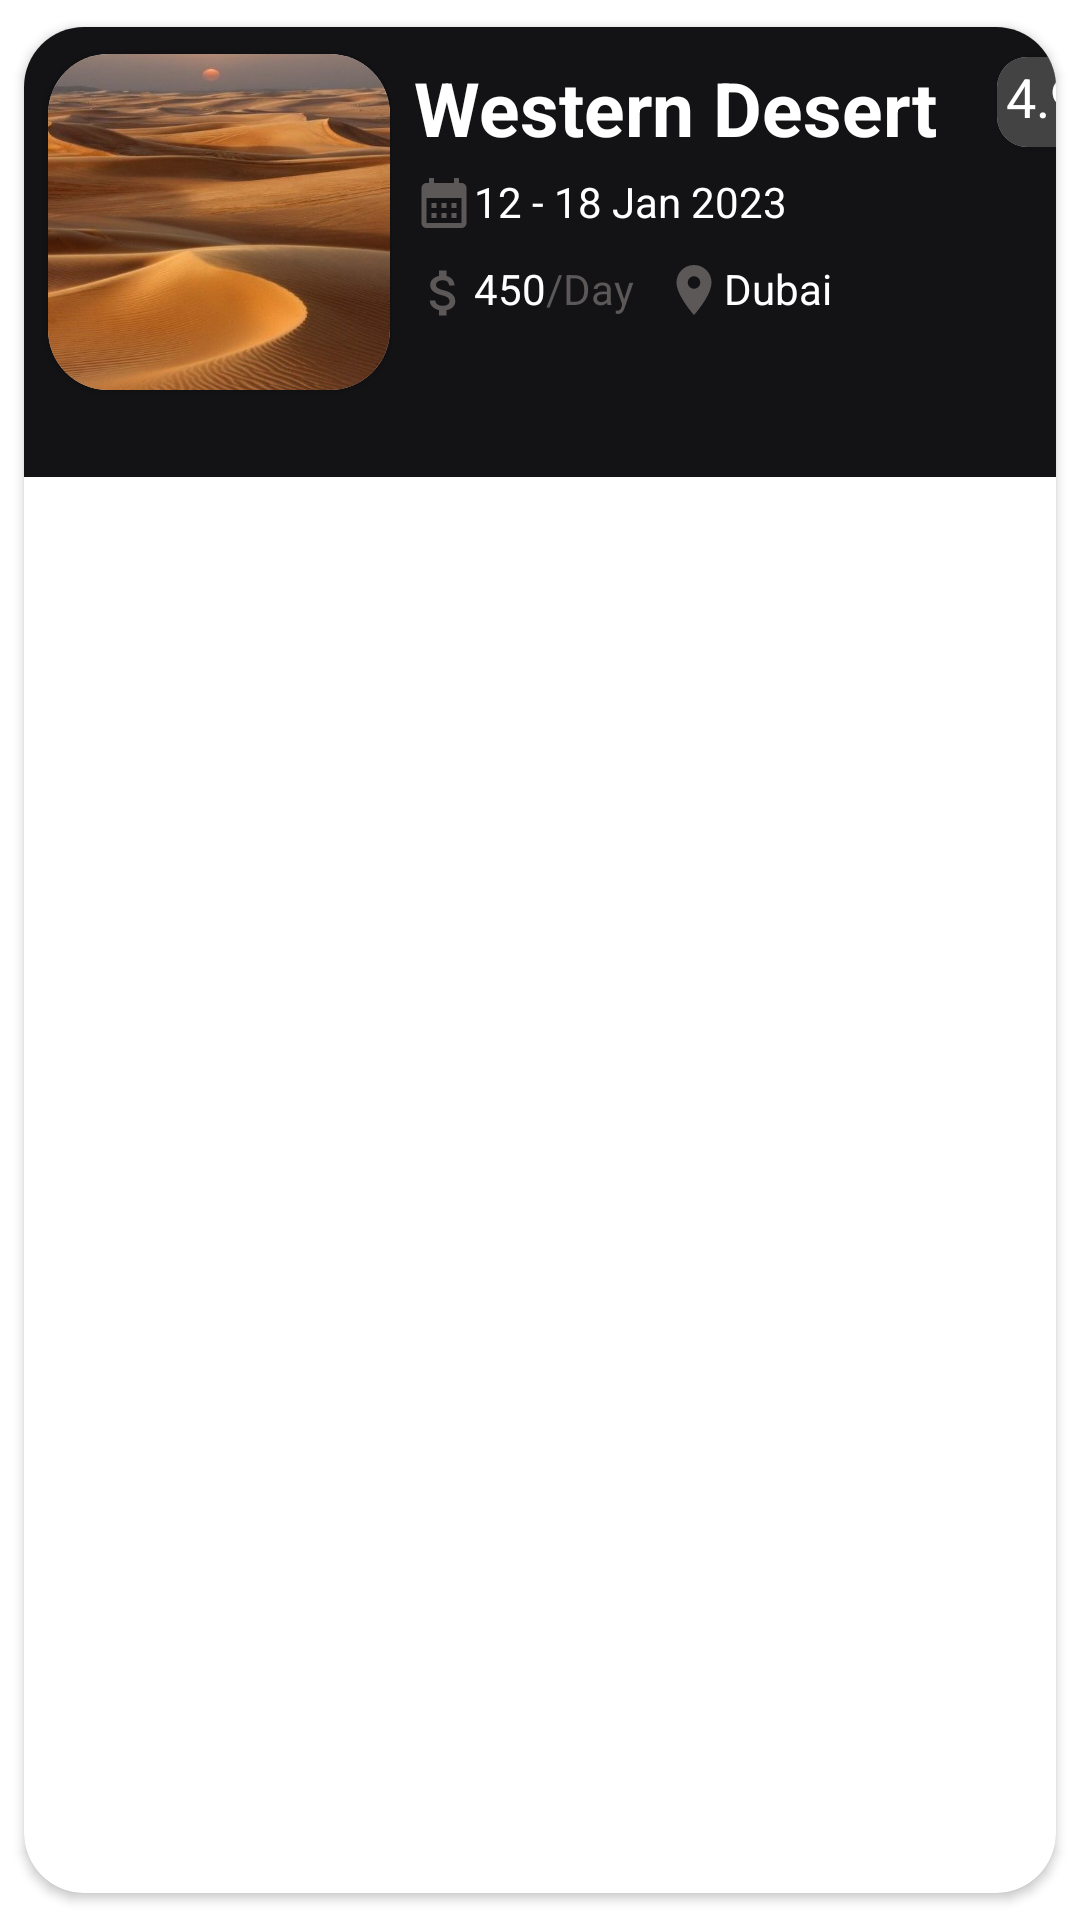

Named icons in this screenshot (1080×1920) and their bounding boxes, (x1, y1, x2, y2):
attach money: (430, 270, 455, 316)
calendar month: (421, 178, 467, 228)
location on: (676, 265, 712, 315)
